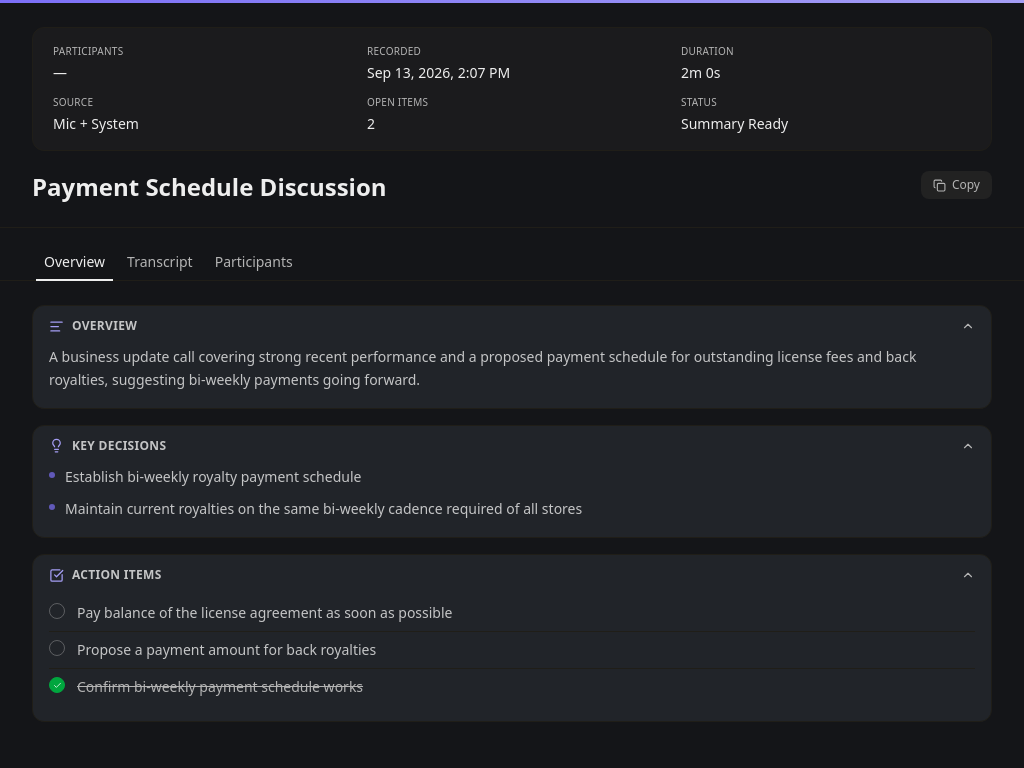
sidebar column visibility › renders sidebar when decisions, topics, and action items are populated
Expected: the heading "Key Decisions" is shown, left=72, top=438, right=166, bottom=454
Expected: the heading "Action Items" is shown, left=72, top=567, right=162, bottom=583
Press the mouse on the tab "Participants" at [254, 262], box left=206, top=248, right=302, bottom=276
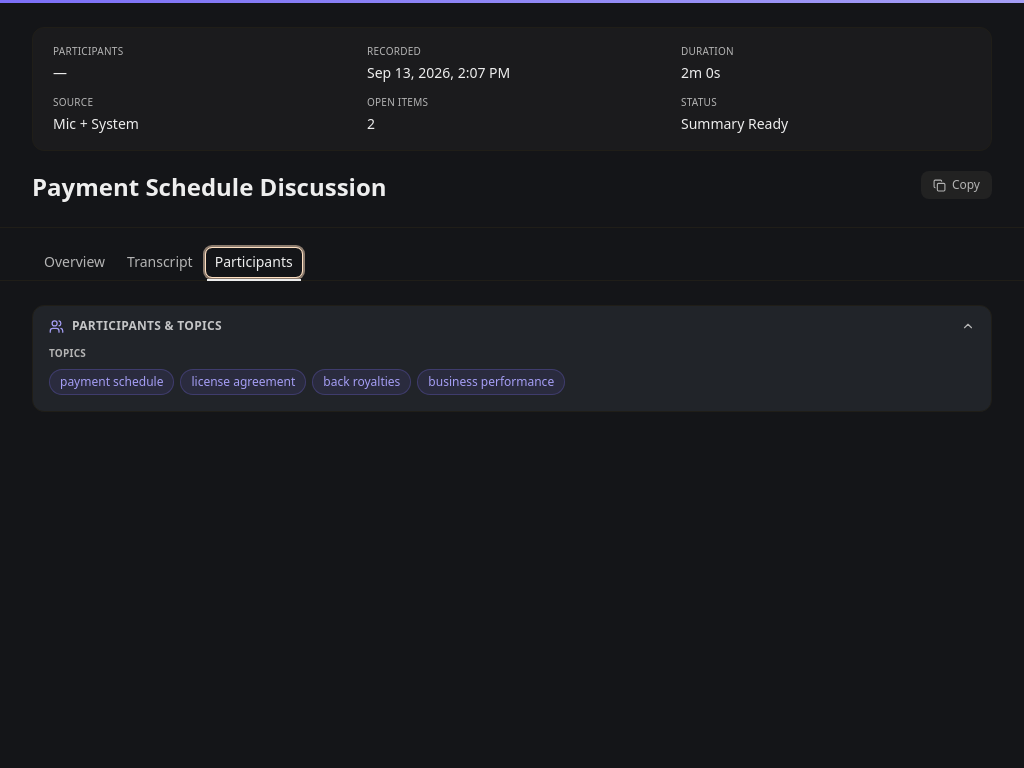
Result: the heading "Topics" is shown at left=49, top=346, right=86, bottom=360
